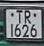1: (9, 24, 15, 39)
2: (22, 24, 30, 39)
6: (30, 23, 38, 40), (14, 23, 22, 39)
R: (24, 10, 32, 25)
T: (15, 10, 24, 25)
